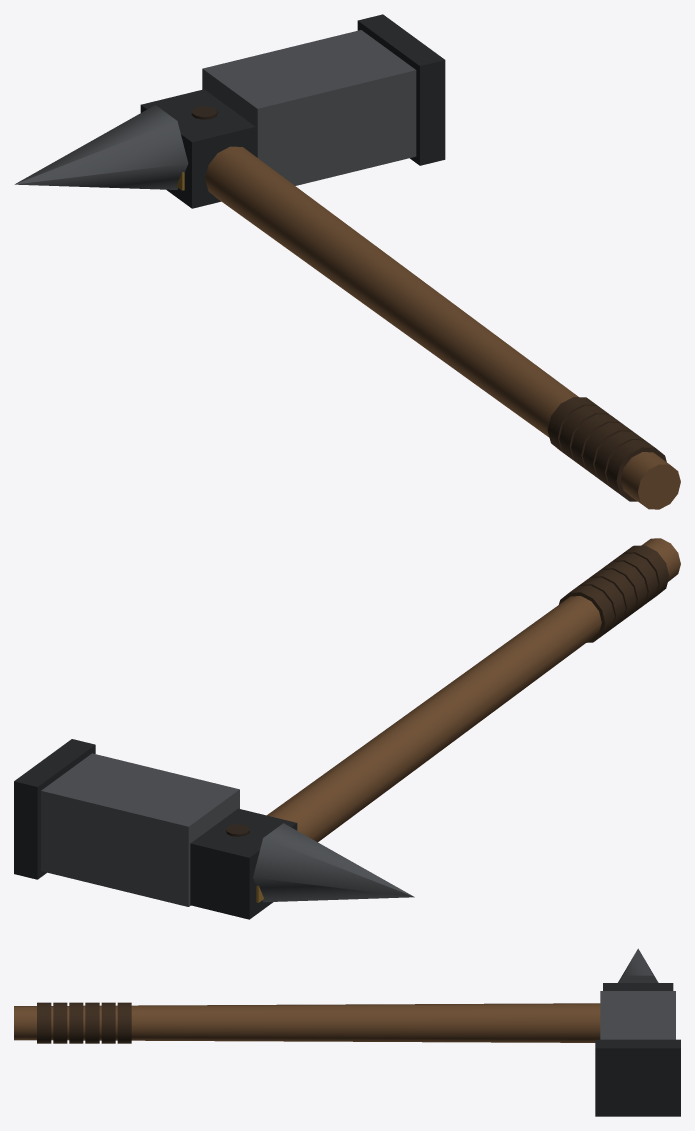
Rendered from warhammer.glb.
The picture shows the model from 3 angles, top to bottom: view 1: azimuth 30°, elevation 25°; view 2: azimuth 150°, elevation 25°; view 3: azimuth 270°, elevation 25°; orthographic projection. The views are drawn at different scales.
Visible parts, largest first — view 1: pickIron, handle, iron; view 2: pickIron, handle, iron; view 3: handle, iron, pickIron.
Part boxes in pixels (box(x1,y1,x2,y2)): pickIron: box(14, 30, 416, 189); handle: box(205, 146, 680, 509); iron: box(140, 14, 445, 208); pickIron: box(41, 753, 414, 906); handle: box(267, 538, 680, 842); iron: box(14, 739, 297, 919); handle: box(14, 1002, 600, 1043); iron: box(595, 983, 680, 1116); pickIron: box(600, 948, 675, 1039).
Size of the model in its own units: 0.315 by 0.075 by 0.6625.
